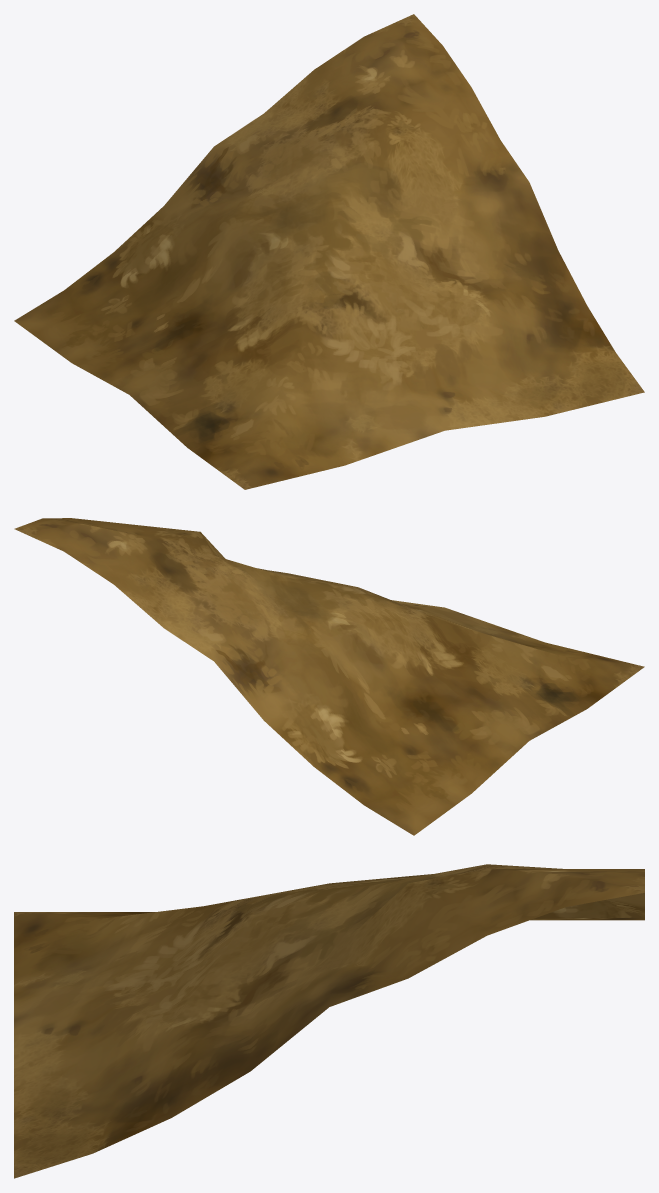
The model's file is Slope_Corner_001.fbx.
The picture shows the model from 3 angles, top to bottom: view 1: azimuth 30°, elevation 25°; view 2: azimuth 150°, elevation 25°; view 3: azimuth 270°, elevation 25°; orthographic projection. The views are drawn at different scales.
Visible parts, largest first — view 1: Slope_Corner_001; view 2: Slope_Corner_001; view 3: Slope_Corner_001.
Boxes of the visible parts, bbox=[...] form: Slope_Corner_001: bbox=[14, 14, 644, 489]; Slope_Corner_001: bbox=[14, 518, 644, 835]; Slope_Corner_001: bbox=[14, 864, 644, 1178].
Size of the model in its own units: 10 by 5 by 10.
Materials: 1 (1 with a texture image).
